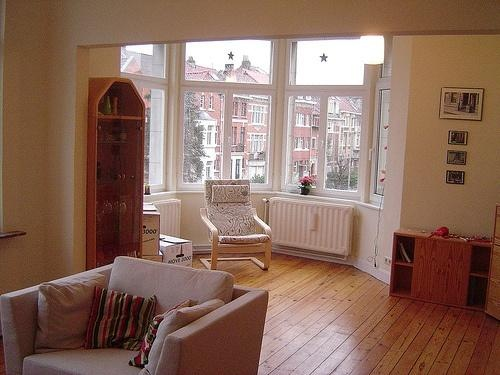chair: (5, 252, 276, 375), (197, 180, 274, 273)
pottedplant: (297, 177, 316, 195)
